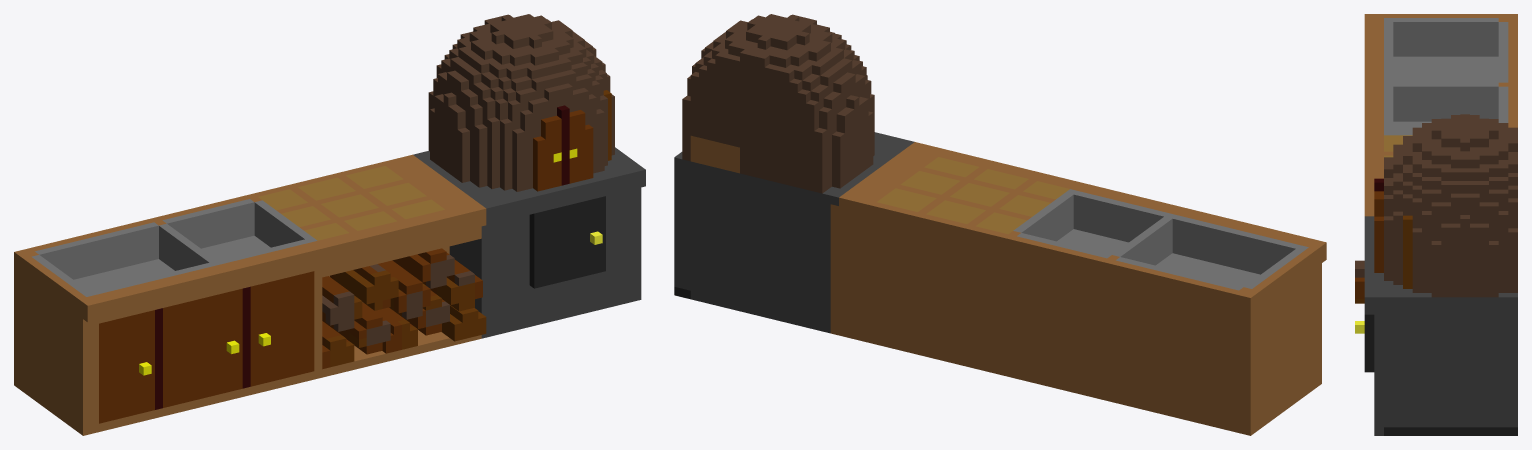
Rendered from Kitchen.obj.
3 renders of one model, left to right at view 1: azimuth 30°, elevation 25°; view 2: azimuth 150°, elevation 25°; view 3: azimuth 270°, elevation 25°, orthographic. The views are drawn at different scales.
Bounding box in the file's own units: 7 × 3.1 × 1.7.
Materials: 1 (1 with a texture image).
